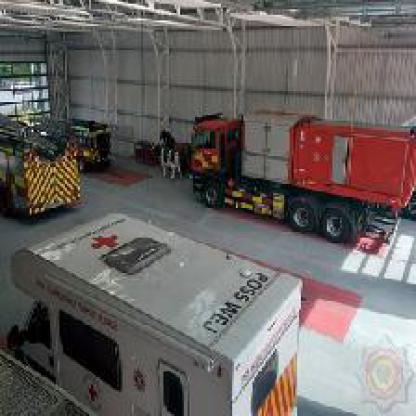emergency: (15, 223, 304, 407), (182, 110, 414, 238)
